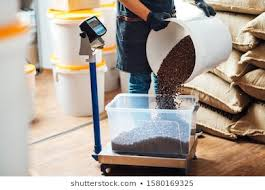Industrial Scale: (79, 15, 197, 176)
